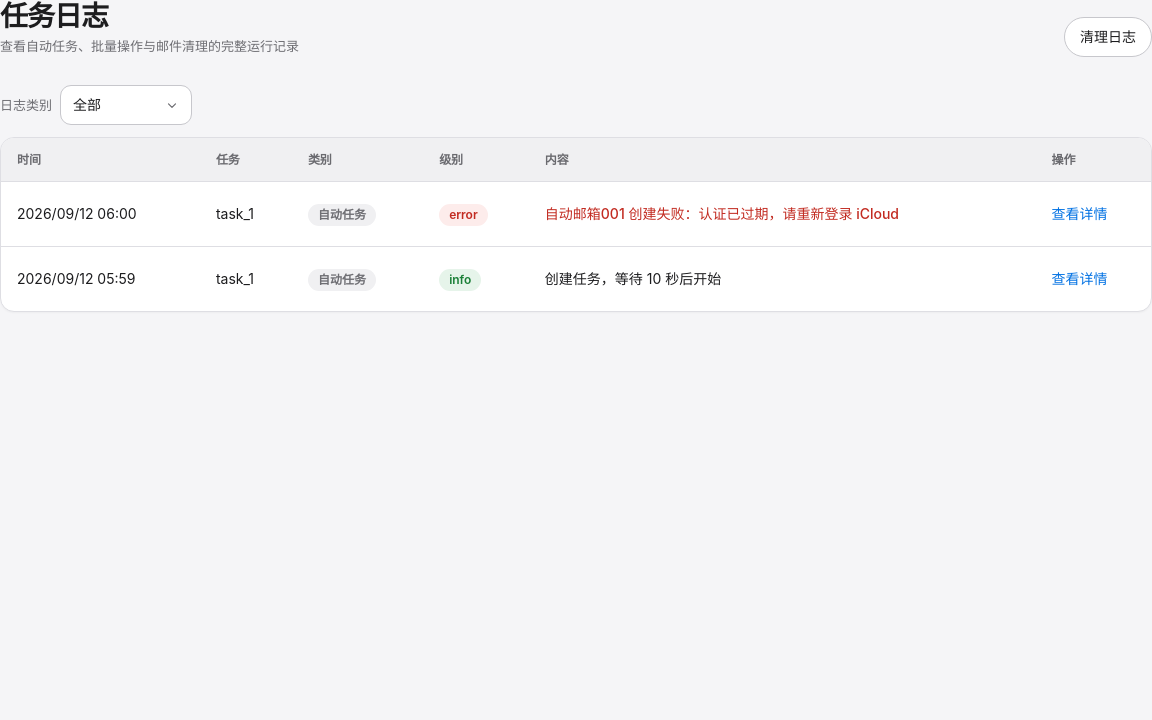
Scenario: LogsPage › 清理日志: 打开对话框, 选择「1 周前」确认后发送 older_than_days=7 并刷新列表
The image size is (1152, 720).
Expected: the text "创建任务，等待 10 秒后开始" is shown, top-left (529, 247), bottom-right (1036, 311)
What coordinates should you click on to do the following:
click the button "清理日志"
I would click on:
 (1108, 37)
Its box is top-left (1064, 17), bottom-right (1151, 57).
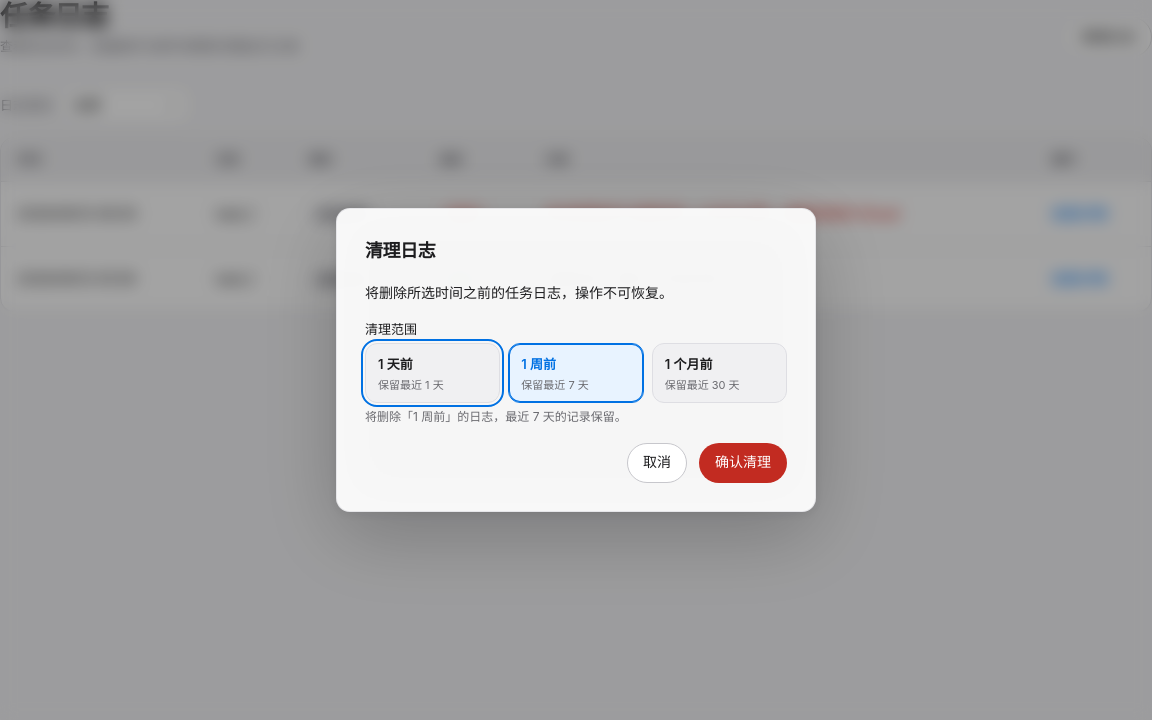
Expected: the radio button labelled "1 天前 保留最近 1 天" is shown, top-left (365, 343), bottom-right (500, 403)
Expected: the radio button labelled "1 周前 保留最近 7 天" is shown
Expected: the radio button labelled "1 个月前 保留最近 30 天" is shown, top-left (652, 343), bottom-right (787, 403)
What coordinates should you click on to do the following:
click the radio button labelled "1 周前 保留最近 7 天"
I would click on:
 (576, 373)
Its box is top-left (508, 343), bottom-right (644, 403).
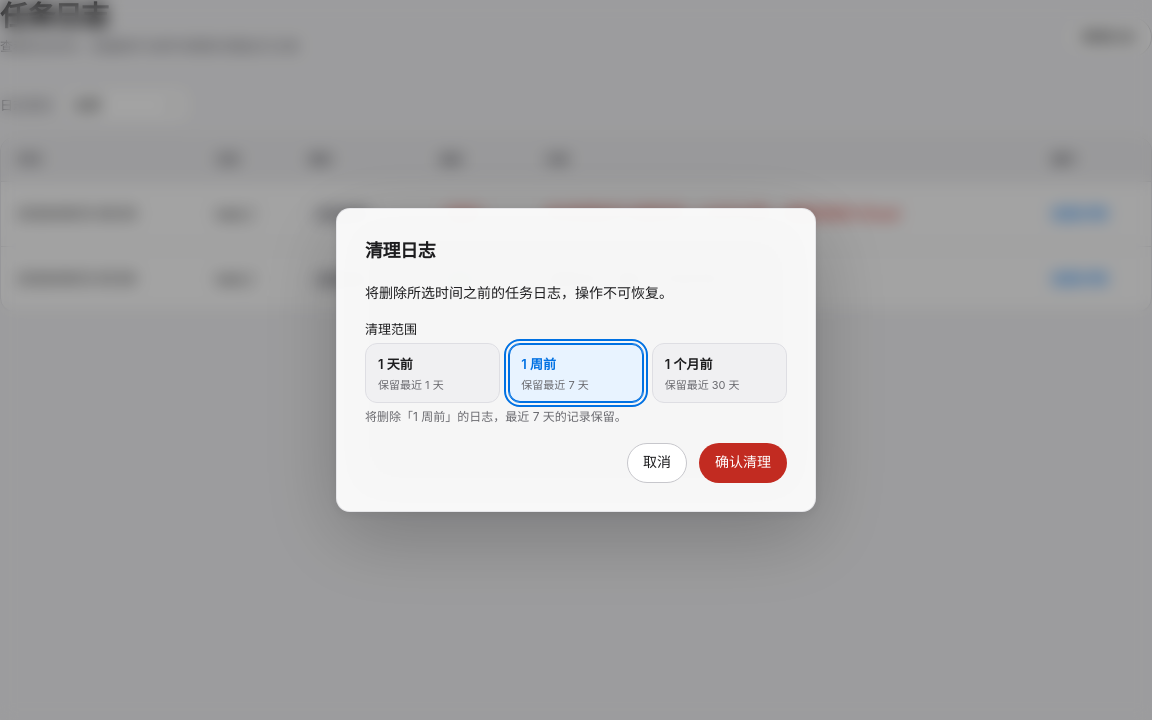
What coordinates should you click on to do the following:
click the button "确认清理"
I would click on:
 (743, 463)
Its box is top-left (699, 443), bottom-right (787, 483).
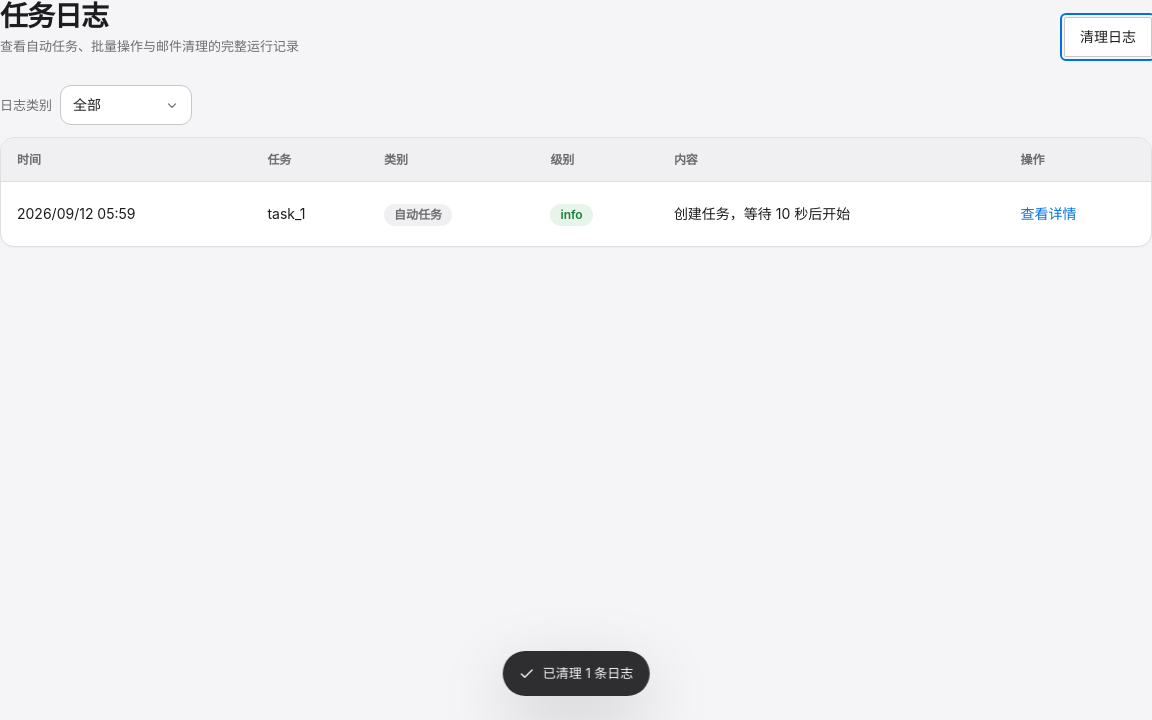
Expected: the dialog is gone
Expected: the message reads "已清理 1 条日志", top-left (543, 665), bottom-right (633, 681)
